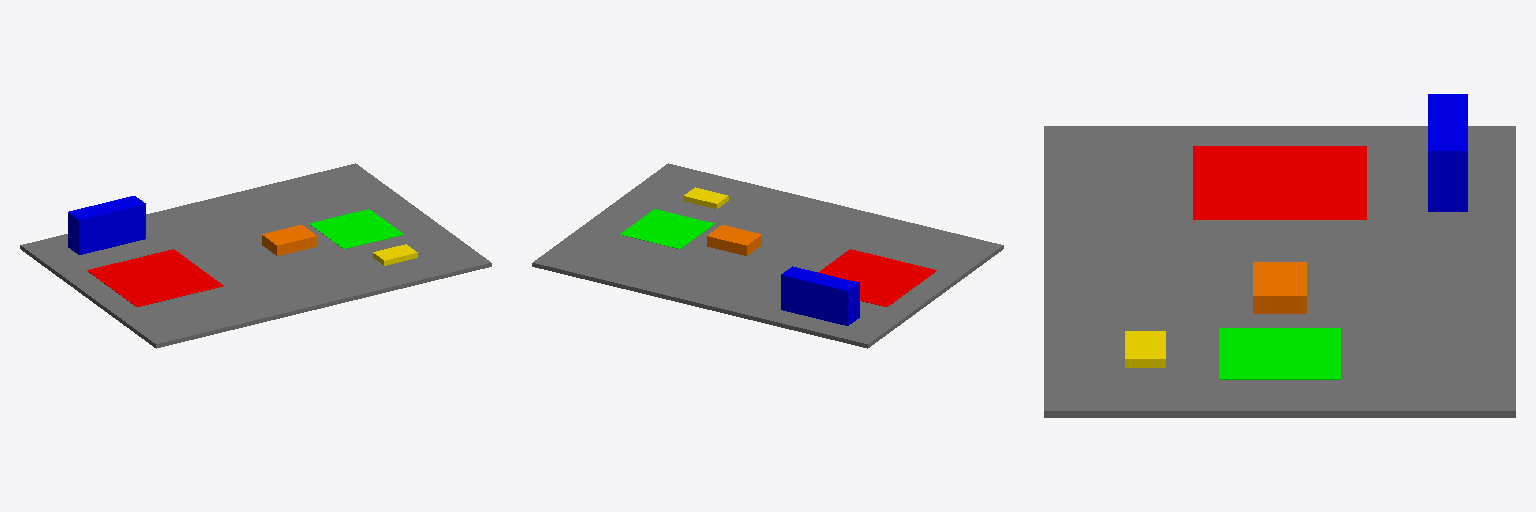
URDF robot description (workcell):
<?xml version="1.0" ?>
<robot name="workcell">

<!-- Layout placeholders, NOT measured. Units: meters / radians.
     Origin = plate center at table surface. +X = AR4 -> JetCobot, +Z up.
     Boxes: frame at the box center (visual origin 0 0 0),
            joint z = 0.012 (plate top) + half the box height. -->

<!-- Link Definitions -->
<link name="world">
</link>

<link name="plate">
    <visual>
        <geometry>
        <box size="1 0.7 0.012"/>
        </geometry>
        <origin xyz="0 0 0.006" rpy="0 0 0"/>
        <material name="gray">
        <color rgba="0.5 0.5 0.5 1"/>
        </material>
    </visual>
</link>

<link name="toolChangerDock">
    <visual>
        <geometry>
        <box size="0.2 0.06 0.1"/>
        </geometry>
        <origin xyz="0 0 0" rpy="0 0 0"/>
        <material name="blue">
        <color rgba="0 0 1 1"/>
        </material>
    </visual>
</link>

<!-- Insert fixture: holds the part. Cobot places, AR4 presses. 120 x 80 x 30 mm -->
<link name="insert_fixture">
    <visual>
        <geometry>
        <box size="0.12 0.08 0.03"/>
        </geometry>
        <origin xyz="0 0 0" rpy="0 0 0"/>
        <material name="orange">
        <color rgba="1 0.5 0 1"/>
        </material>
    </visual>
</link>

<!-- Insert tray: cobot picks inserts here. 100 x 60 x 15 mm -->
<link name="insert_tray">
    <visual>
        <geometry>
        <box size="0.1 0.06 0.015"/>
        </geometry>
        <origin xyz="0 0 0" rpy="0 0 0"/>
        <material name="yellow">
        <color rgba="1 0.9 0 1"/>
        </material>
    </visual>
</link>

<!-- Robot zone markers: thin see-through squares (1 mm) showing each robot's footprint -->
<link name="ar4_zone">
    <visual>
        <geometry>
        <box size="0.26 0.26 0.001"/>
        </geometry>
        <origin xyz="0 0 0" rpy="0 0 0"/>
        <material name="red_transparent">
        <color rgba="1 0 0 0.4"/>
        </material>
    </visual>
</link>

<link name="cobot_zone">
    <visual>
        <geometry>
        <box size="0.18 0.18 0.001"/>
        </geometry>
        <origin xyz="0 0 0" rpy="0 0 0"/>
        <material name="green_transparent">
        <color rgba="0 1 0 0.4"/>
        </material>
    </visual>
</link>

<!-- Named frames (no geometry). Code and MoveIt target these by name. -->
<link name="ar4_mount"/>
<link name="cobot_mount"/>
<link name="insert_target"/>
<link name="insert_pick"/>
<link name="tool_slot_1"/>
<link name="tool_slot_2"/>

<!-- Joint Definitions -->
<joint name="world_to_plate" type="fixed">
    <parent link="world"/>
    <child link="plate"/>
    <origin xyz="0 0 0" rpy="0 0 0"/>
</joint>

<!-- z = 0.012 + 0.1/2 -->
<joint name="plate_to_toolChangerDock" type="fixed">
    <parent link="plate"/>
    <child link="toolChangerDock"/>
    <origin xyz="-0.3 0.25 0.062" rpy="0 0 0"/>
</joint>

<!-- z = 0.012 + 0.03/2 -->
<joint name="plate_to_insert_fixture" type="fixed">
    <parent link="plate"/>
    <child link="insert_fixture"/>
    <origin xyz="0.1 0 0.027" rpy="0 0 0"/>
</joint>

<!-- z = 0.012 + 0.015/2 -->
<joint name="plate_to_insert_tray" type="fixed">
    <parent link="plate"/>
    <child link="insert_tray"/>
    <origin xyz="0.3 -0.2 0.0195" rpy="0 0 0"/>
</joint>

<!-- z = 0.012 + 0.001/2 -->
<joint name="plate_to_ar4_zone" type="fixed">
    <parent link="plate"/>
    <child link="ar4_zone"/>
    <origin xyz="-0.3 0 0.0125" rpy="0 0 0"/>
</joint>

<joint name="plate_to_cobot_zone" type="fixed">
    <parent link="plate"/>
    <child link="cobot_zone"/>
    <origin xyz="0.3 0 0.0125" rpy="0 0 0"/>
</joint>

<!-- Robot mount frames: on the plate surface where each robot URDF will attach.
     Cobot is turned 180 deg about Z so it faces the AR4. -->
<joint name="plate_to_ar4_mount" type="fixed">
    <parent link="plate"/>
    <child link="ar4_mount"/>
    <origin xyz="-0.3 0 0.012" rpy="0 0 0"/>
</joint>

<joint name="plate_to_cobot_mount" type="fixed">
    <parent link="plate"/>
    <child link="cobot_mount"/>
    <origin xyz="0.3 0 0.012" rpy="0 0 3.14159"/>
</joint>

<!-- Target frames: parented to their object so they follow it if it moves.
     Measured from the object's center frame, so z = +half height = top surface. -->
<joint name="insert_fixture_to_insert_target" type="fixed">
    <parent link="insert_fixture"/>
    <child link="insert_target"/>
    <origin xyz="0 0 0.015" rpy="0 0 0"/>
</joint>

<joint name="insert_tray_to_insert_pick" type="fixed">
    <parent link="insert_tray"/>
    <child link="insert_pick"/>
    <origin xyz="0 0 0.0075" rpy="0 0 0"/>
</joint>

<joint name="toolChangerDock_to_tool_slot_1" type="fixed">
    <parent link="toolChangerDock"/>
    <child link="tool_slot_1"/>
    <origin xyz="-0.05 0 0.05" rpy="0 0 0"/>
</joint>

<joint name="toolChangerDock_to_tool_slot_2" type="fixed">
    <parent link="toolChangerDock"/>
    <child link="tool_slot_2"/>
    <origin xyz="0.05 0 0.05" rpy="0 0 0"/>
</joint>

</robot>

--- Facts derived from the render (not from the file) ---
Views: 3 orthographic renders of the robot side by side, from view 1: azimuth 30°, elevation 25°; view 2: azimuth 150°, elevation 25°; view 3: azimuth 270°, elevation 25°.
Model workcell with 13 links and 12 joints (12 fixed), rooted at world, posed all joints at 0.
Links seen in each view (by area): view 1: plate, ar4_zone, toolChangerDock, cobot_zone, insert_fixture, insert_tray; view 2: plate, toolChangerDock, ar4_zone, cobot_zone, insert_fixture, insert_tray; view 3: plate, ar4_zone, cobot_zone, toolChangerDock, insert_fixture, insert_tray.
Link boxes in pixels (x1=…): plate: x1=20, y1=163, x2=491, y2=348; ar4_zone: x1=87, y1=249, x2=223, y2=306; toolChangerDock: x1=68, y1=196, x2=145, y2=254; cobot_zone: x1=309, y1=209, x2=403, y2=248; insert_fixture: x1=262, y1=225, x2=316, y2=255; insert_tray: x1=373, y1=244, x2=417, y2=265; plate: x1=532, y1=163, x2=1003, y2=348; toolChangerDock: x1=781, y1=266, x2=859, y2=325; ar4_zone: x1=818, y1=249, x2=936, y2=306; cobot_zone: x1=620, y1=209, x2=714, y2=248; insert_fixture: x1=707, y1=225, x2=761, y2=255; insert_tray: x1=684, y1=187, x2=728, y2=208; plate: x1=1044, y1=126, x2=1515, y2=417; ar4_zone: x1=1193, y1=146, x2=1366, y2=219; cobot_zone: x1=1219, y1=328, x2=1340, y2=379; toolChangerDock: x1=1428, y1=94, x2=1467, y2=211; insert_fixture: x1=1253, y1=262, x2=1306, y2=313; insert_tray: x1=1125, y1=331, x2=1165, y2=367.
Bounding box of the posed robot: 1 × 0.7 × 0.112 m (x, y, z).
Geometry: primitives only (box / cylinder / sphere), no mesh files.
